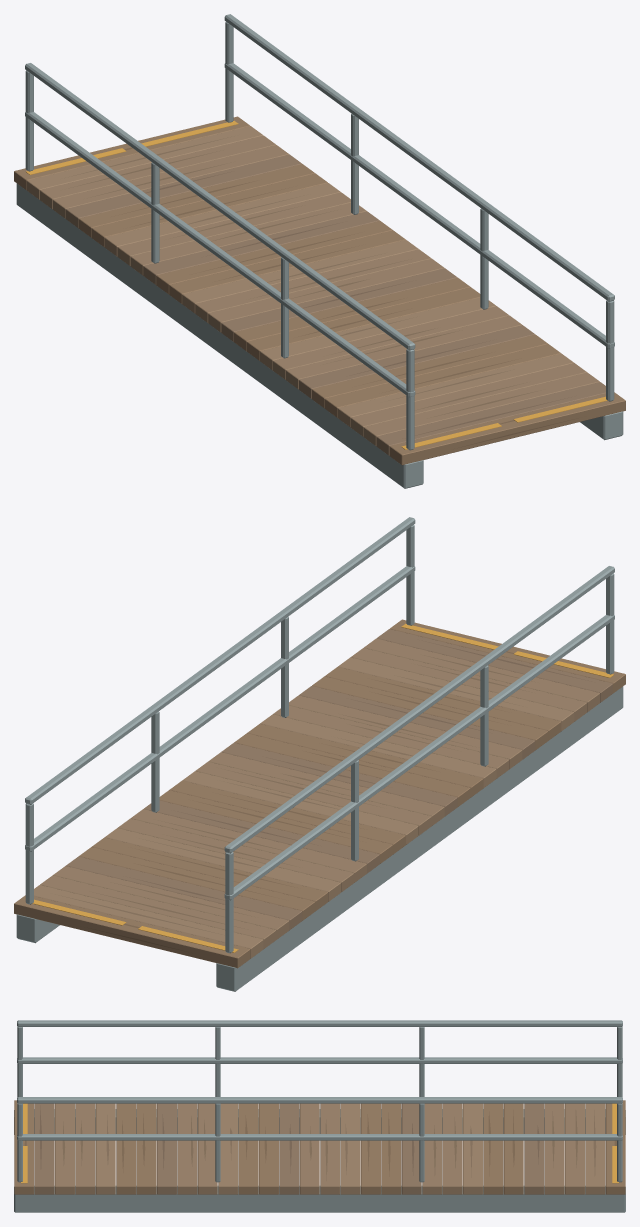
Rendered from finger_ramp.glb.
3 views of the same model, one above another, from view 1: azimuth 30°, elevation 25°; view 2: azimuth 150°, elevation 25°; view 3: azimuth 270°, elevation 25° (orthographic). The views are drawn at different scales.
Parts seen in each view (by area): view 1: finger_ramp; view 2: finger_ramp; view 3: finger_ramp.
Boxes of the visible parts, x1,y1,x2,y2 form: finger_ramp: [14, 14, 625, 488]; finger_ramp: [14, 517, 625, 991]; finger_ramp: [14, 1020, 625, 1212].
Bounding box in the file's own units: 2 × 1.21 × 6.
